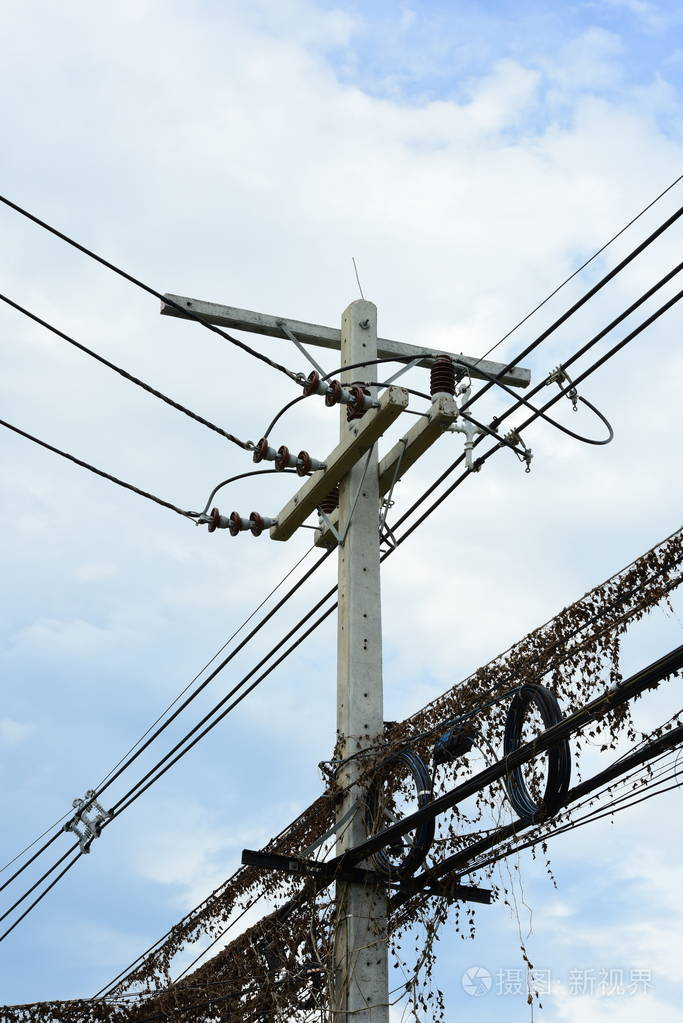insulator: (297, 372, 367, 411), (244, 435, 312, 474), (202, 506, 266, 536)
